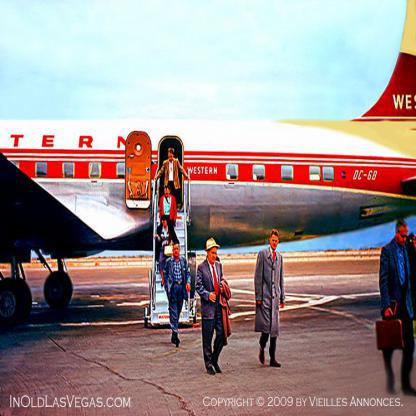CIV_Plane: (0, 0, 415, 333)
